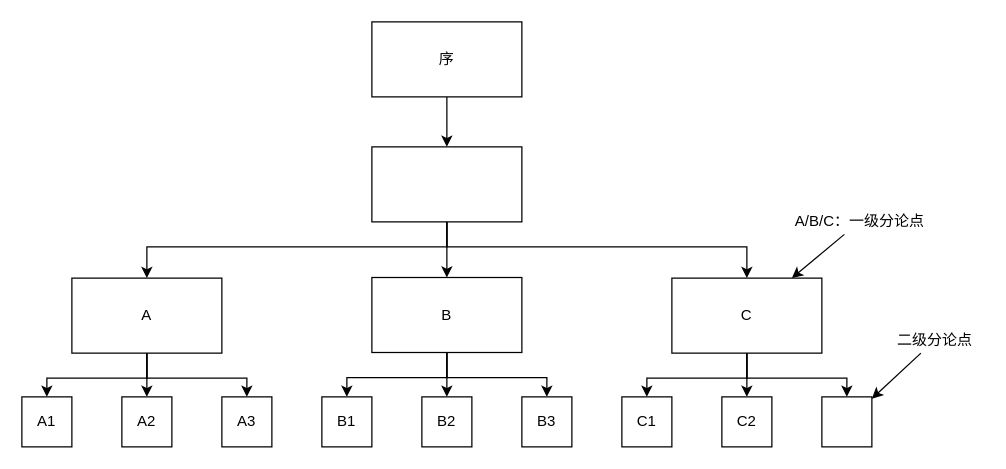
This 1006x469 diagram has some shape labels left out. Each missing label, with the centre of its shape:
"C3" belongs at (x=846, y=421).
"G 目的、目标、中心思想" belongs at (x=446, y=184).
